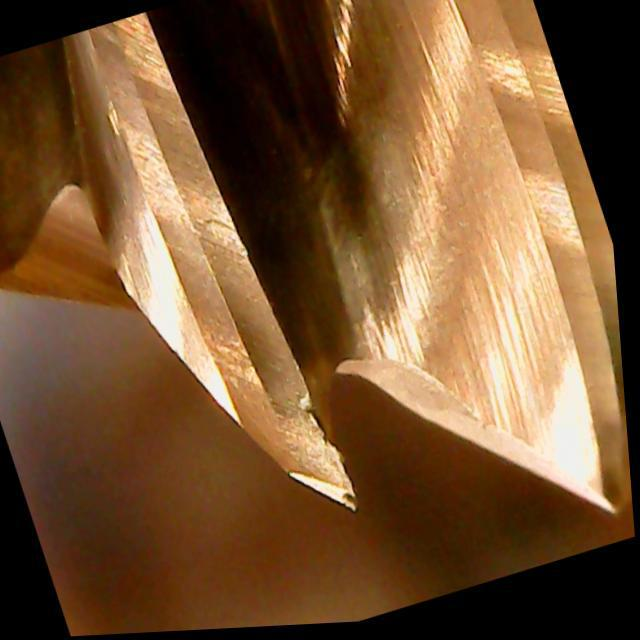Tool-wear-class-1: (162, 215, 373, 547)
